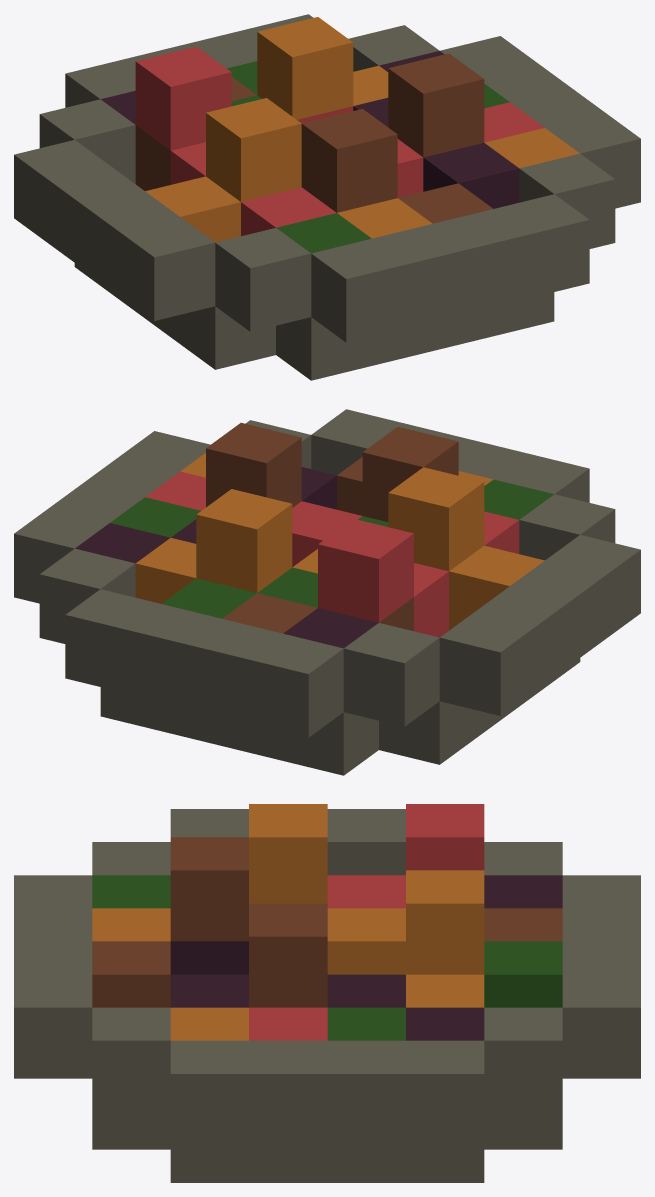
The model's file is micha_pelna.gltf.
The picture shows the model from 3 angles, top to bottom: view 1: azimuth 30°, elevation 25°; view 2: azimuth 150°, elevation 25°; view 3: azimuth 270°, elevation 25°; orthographic projection. The views are drawn at different scales.
Visible parts, largest first — view 1: Layer.1; view 2: Layer.1; view 3: Layer.1.
Boxes of the visible parts, left/top/right/bottom form: Layer.1: left=14, top=14, right=640, bottom=380; Layer.1: left=14, top=409, right=640, bottom=775; Layer.1: left=14, top=804, right=640, bottom=1182.
Size of the model in its own units: 8 by 3 by 8.
